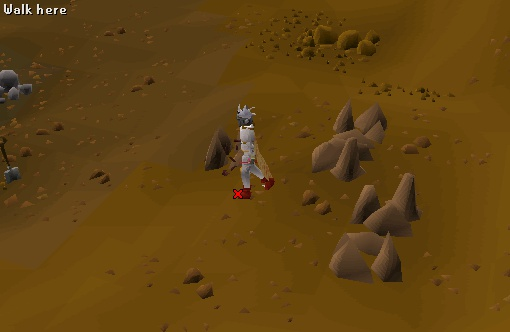copper: (324, 220, 408, 287), (299, 123, 376, 188)
